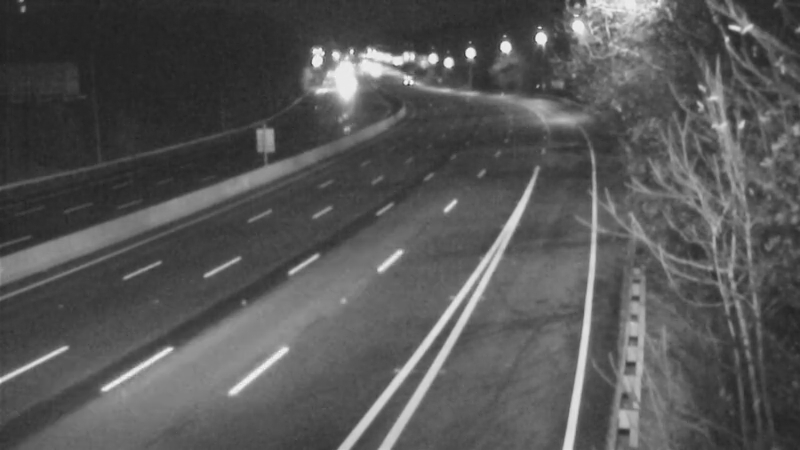vehicle: (379, 53, 429, 103)
